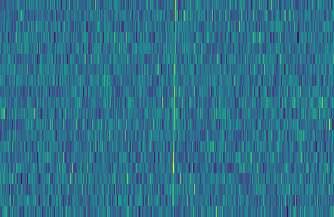signal: (167, 0, 179, 217)
